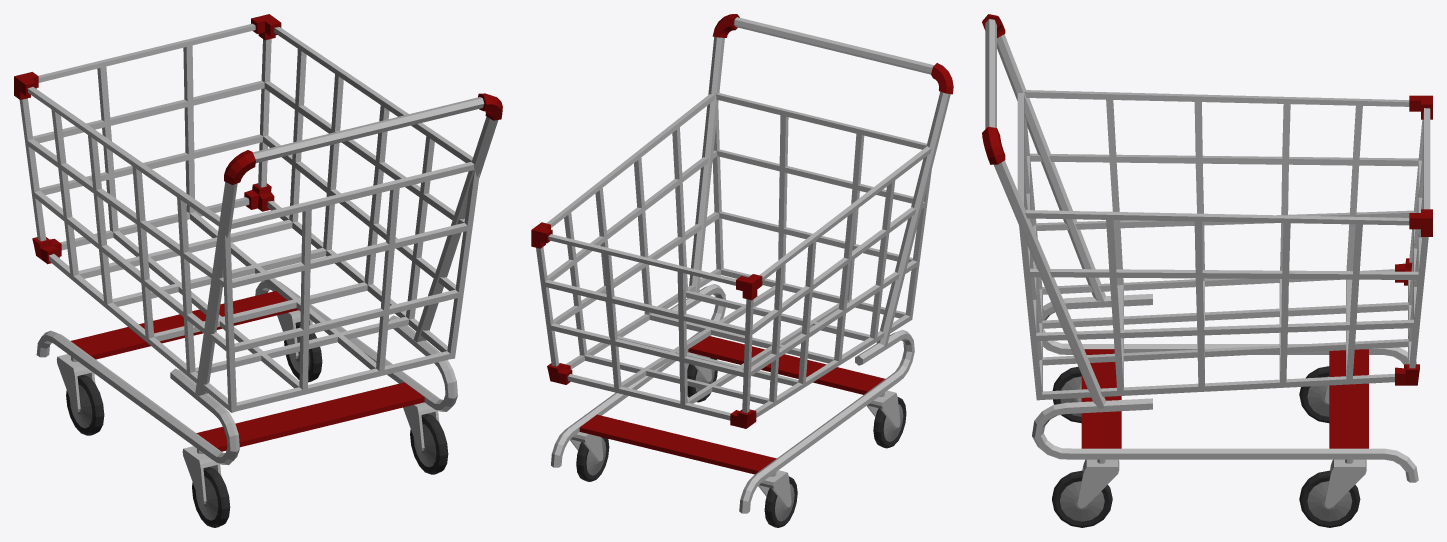
Rendered from shoppingCart.fbx.
3 renders of one model, left to right at view 1: azimuth 30°, elevation 25°; view 2: azimuth 150°, elevation 25°; view 3: azimuth 270°, elevation 25°, orthographic. The views are drawn at different scales.
Parts seen in each view (by area): view 1: ShoppingCart, Wheel.001, Wheel.003, Wheel.002, WheelFull.002, WheelFull.001, Wheel, WheelFull.003; view 2: ShoppingCart, Wheel.002, Wheel.001, Wheel, WheelFull.002, WheelFull.001, WheelFull; view 3: ShoppingCart, Wheel, Wheel.003, WheelFull, WheelFull.003, Wheel.001, Wheel.002.
Part boxes in pixels (left/top/right/bottom): ShoppingCart: left=14, top=14, right=502, bottom=464; Wheel.001: left=66, top=375, right=104, bottom=435; Wheel.003: left=410, top=413, right=448, bottom=474; Wheel.002: left=192, top=467, right=230, bottom=527; WheelFull.002: left=182, top=446, right=221, bottom=504; WheelFull.001: left=56, top=354, right=95, bottom=412; Wheel: left=284, top=321, right=322, bottom=382; WheelFull.003: left=403, top=402, right=439, bottom=451; ShoppingCart: left=531, top=14, right=953, bottom=513; Wheel.002: left=873, top=397, right=906, bottom=448; Wheel.001: left=764, top=476, right=797, bottom=527; Wheel: left=576, top=437, right=609, bottom=481; WheelFull.002: left=866, top=390, right=900, bottom=427; WheelFull.001: left=758, top=470, right=791, bottom=507; WheelFull: left=570, top=432, right=603, bottom=461; ShoppingCart: left=982, top=14, right=1432, bottom=482; Wheel: left=1299, top=470, right=1360, bottom=527; Wheel.003: left=1052, top=470, right=1112, bottom=527; WheelFull: left=1324, top=459, right=1366, bottom=508; WheelFull.003: left=1077, top=459, right=1119, bottom=508; Wheel.001: left=1299, top=366, right=1329, bottom=422; Wheel.002: left=1052, top=367, right=1081, bottom=423.
Size of the model in its own units: 78.38 by 111 by 112.
